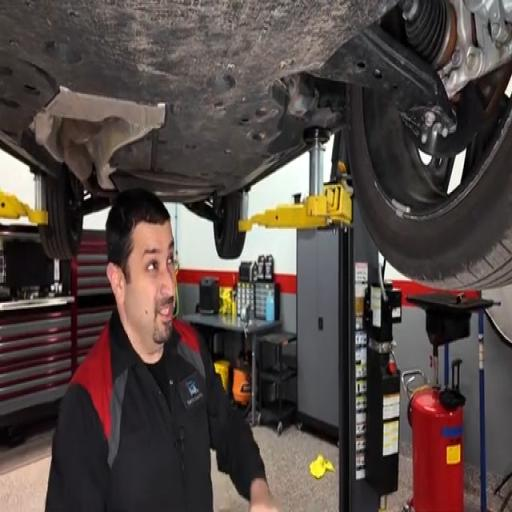tire: (349, 87, 511, 290), (40, 170, 83, 260), (213, 192, 245, 260)
wheel: (349, 87, 511, 290)
